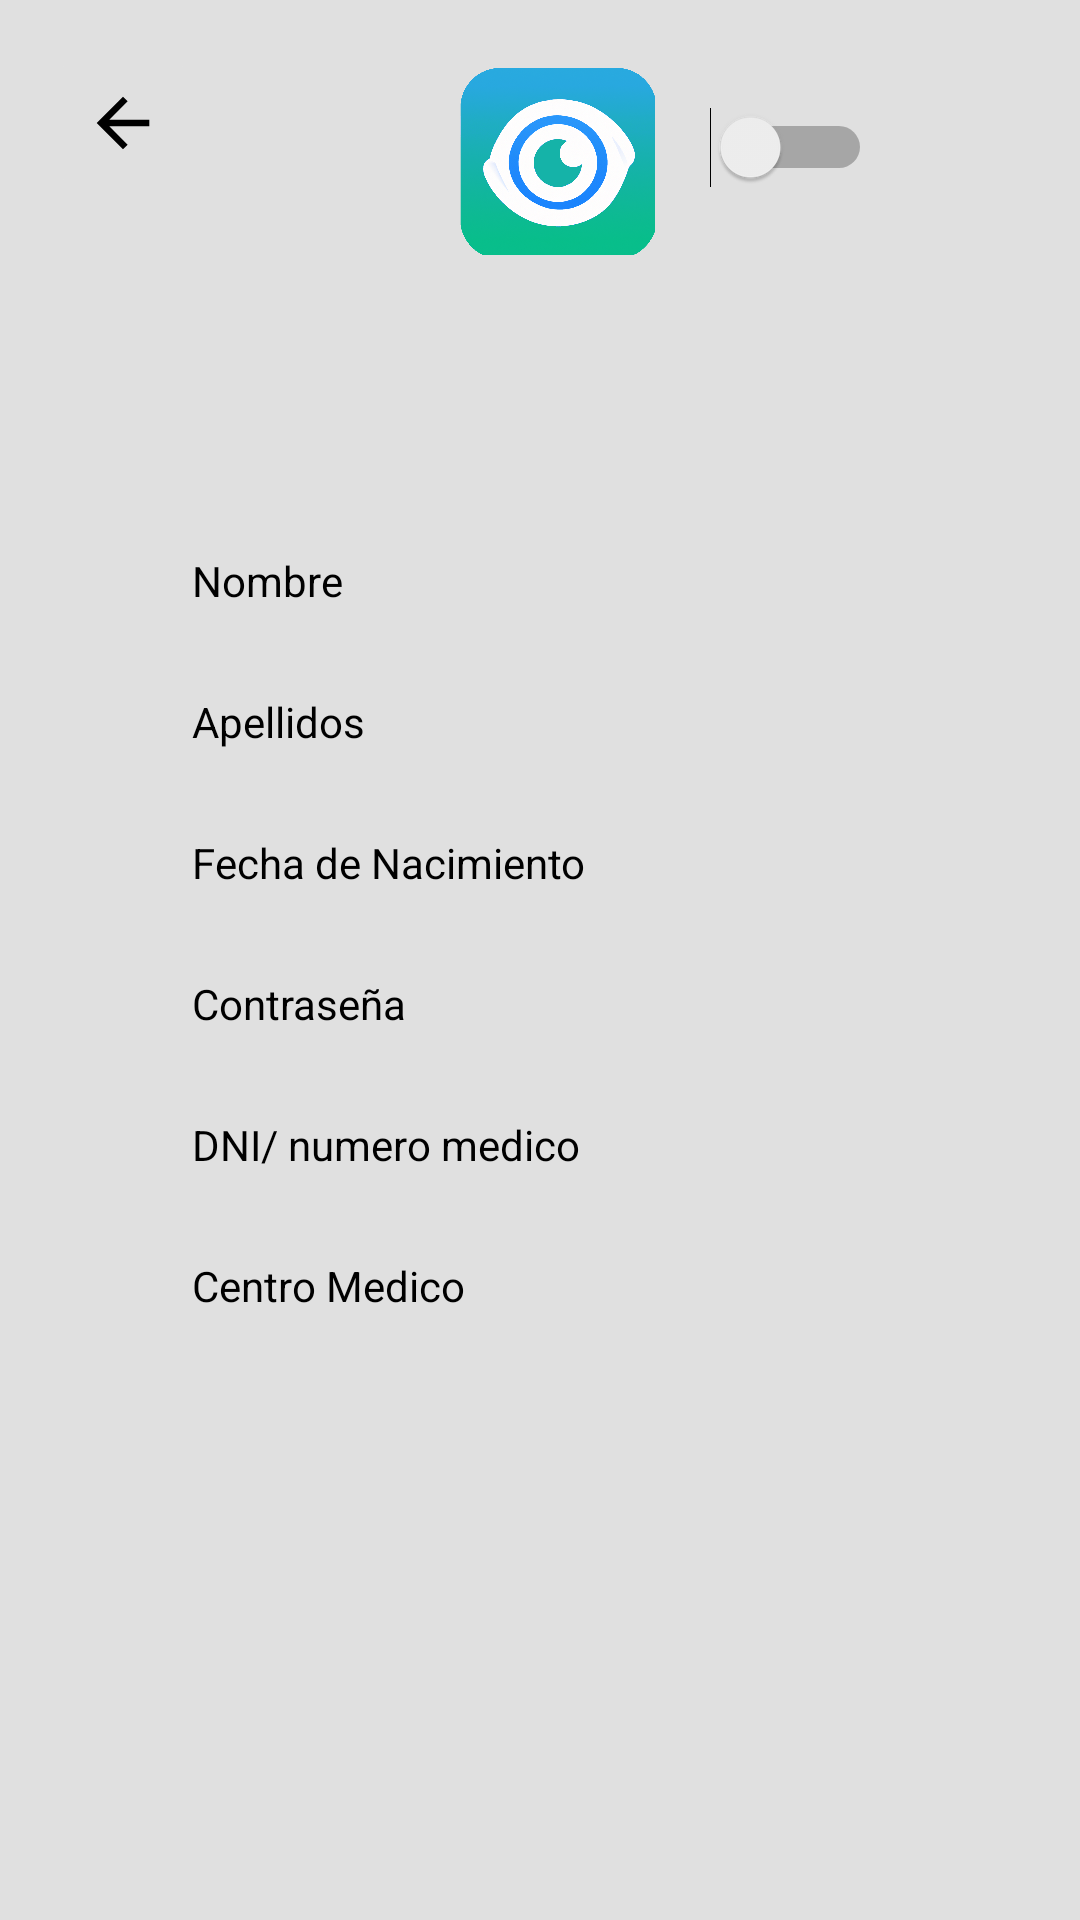

Screen size 1080x1920. Icon name, then its box in pixels as [x1,y1,x2,y2]:
back: [97,97,150,149]
